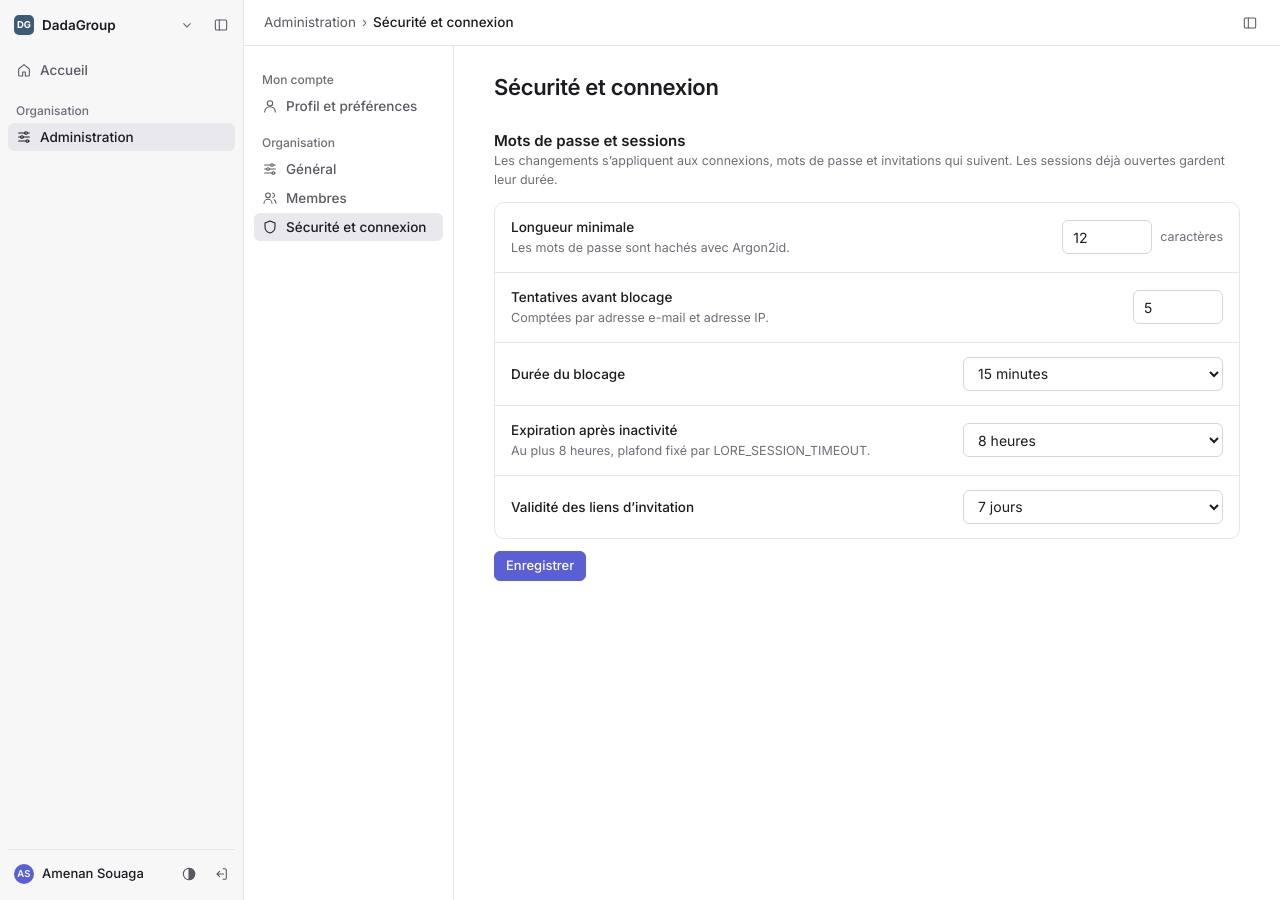
Test: Security and sign-in › refuses values outside the limits before sending
Step 1. Replace the text in the number field labelled "Longueur minimale" with "99" → (1107,237), box [1062,220,1152,254]
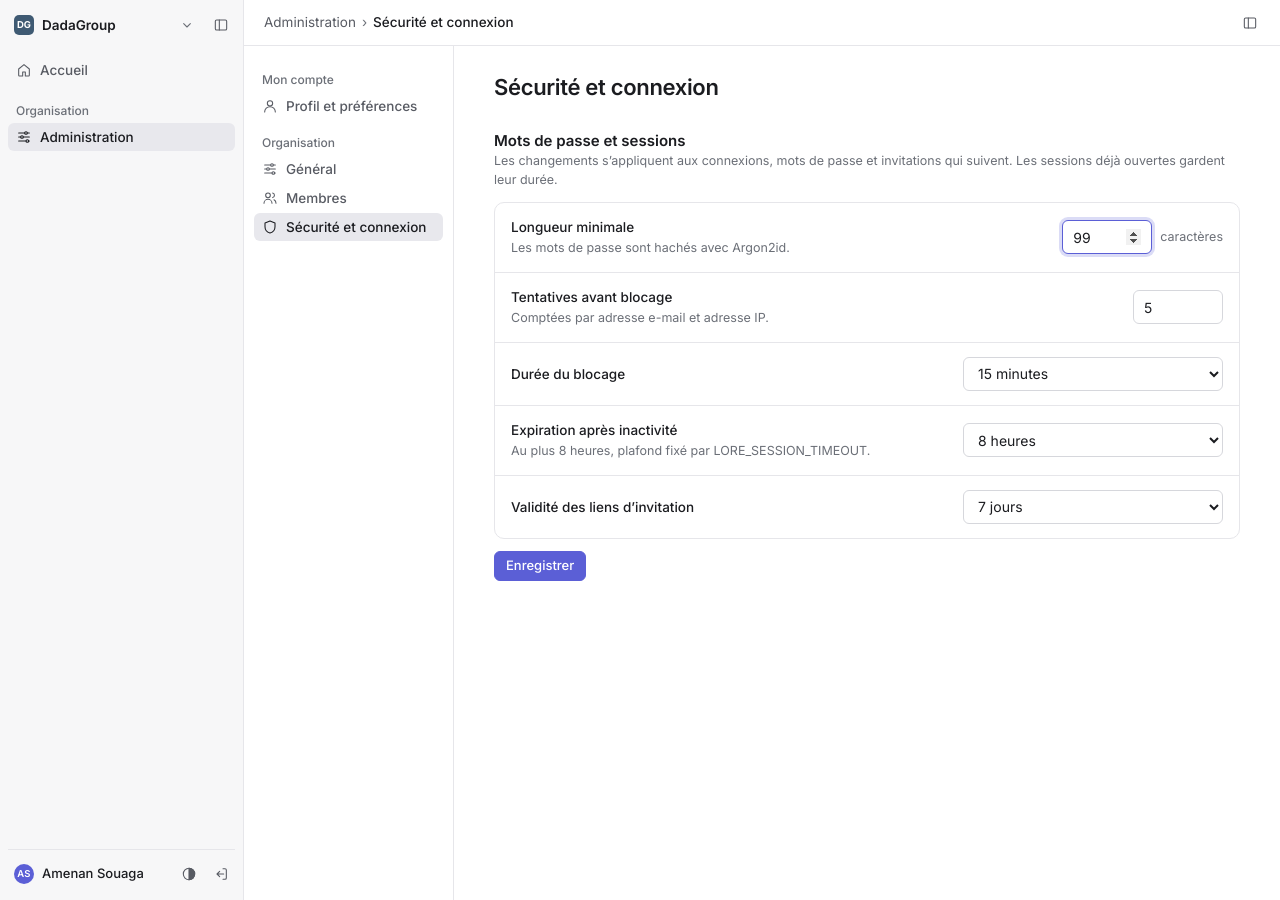
Step 2. Click the button "Enregistrer" → (540,566), box [494,551,586,581]
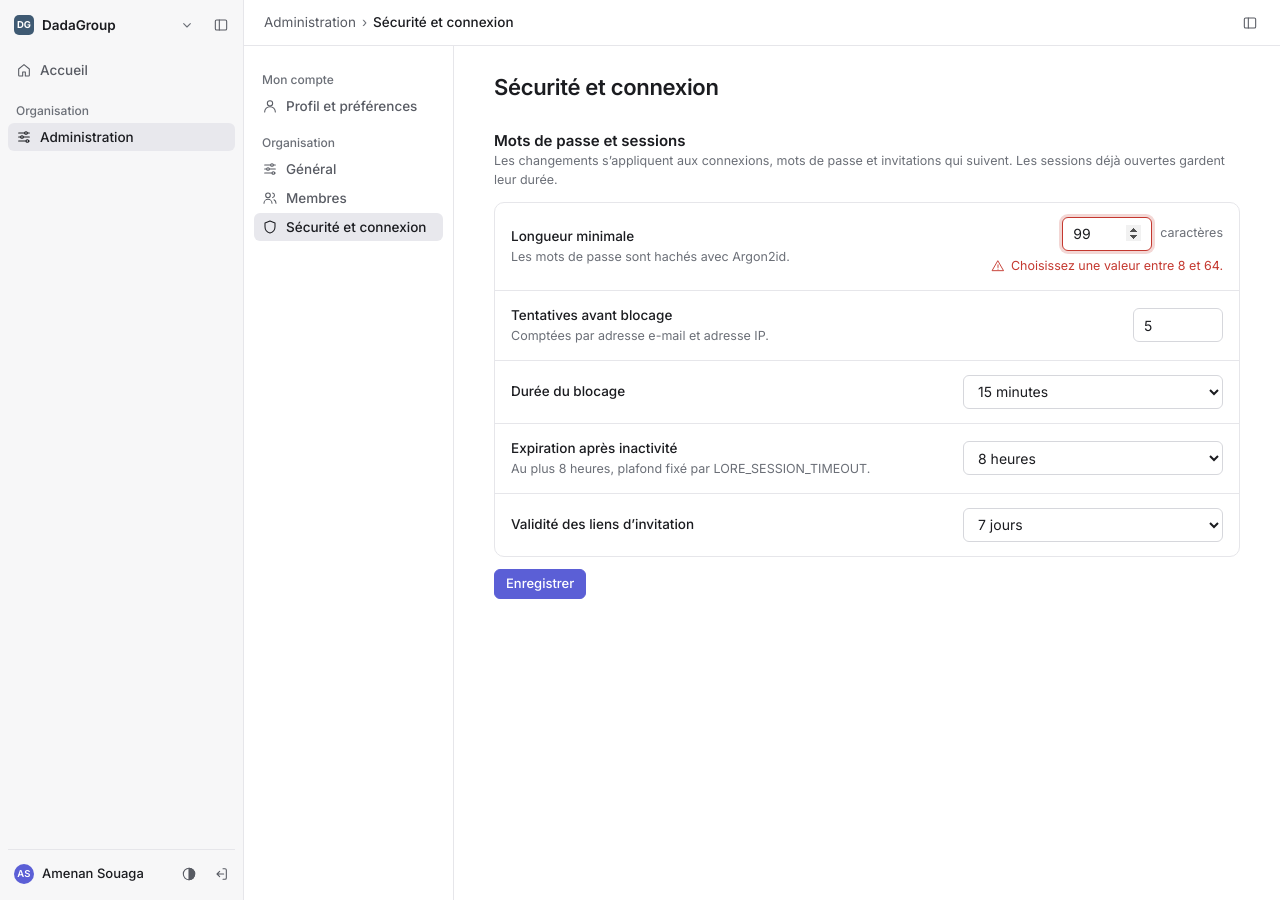
Expected: the text "Choisissez une valeur entre 8 et 64." is shown, [1011,257,1223,276]
